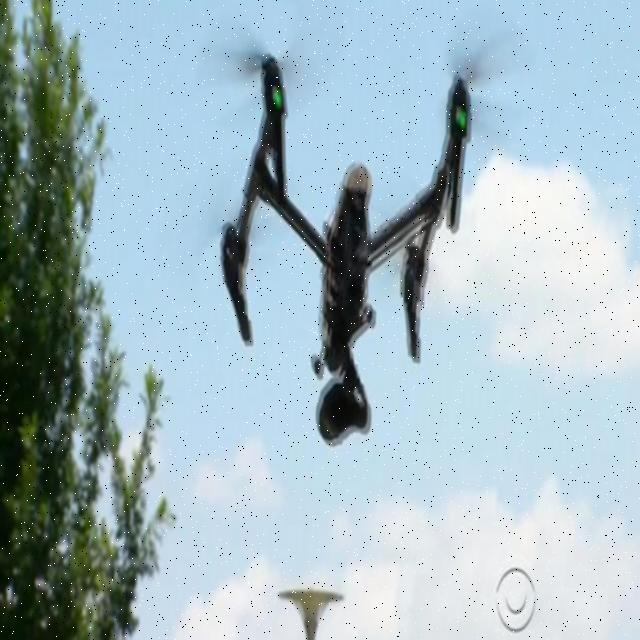UAV: (217, 52, 476, 450)
